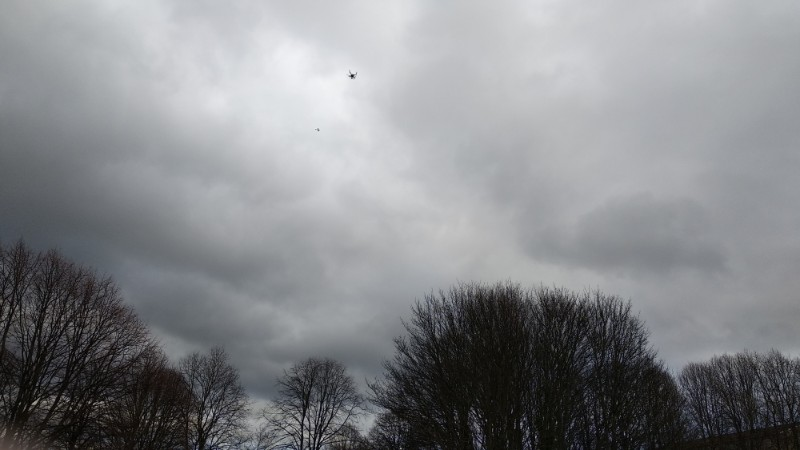drone: (347, 71, 359, 79)
